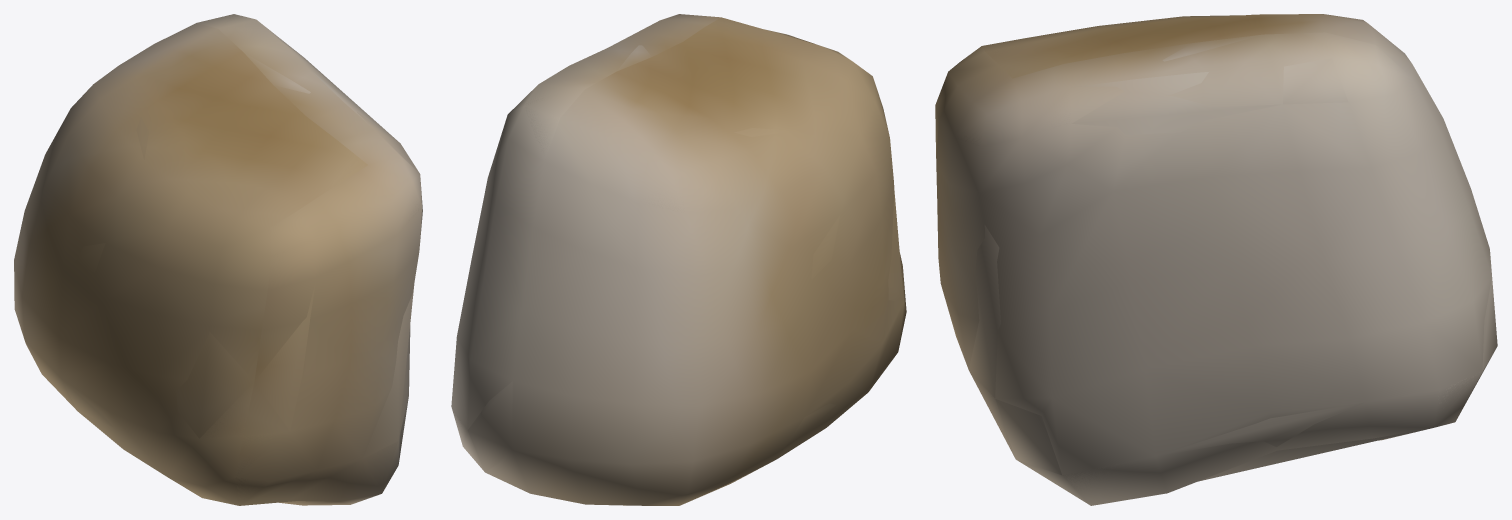
File: R carpale primum.fbx
3 views of the same model, side by side, from view 1: azimuth 30°, elevation 25°; view 2: azimuth 150°, elevation 25°; view 3: azimuth 270°, elevation 25° (orthographic). The views are drawn at different scales.
Visible parts, largest first — view 1: R carpale primum, R carpale primum low; view 2: R carpale primum, R carpale primum low; view 3: R carpale primum, R carpale primum low.
Part boxes in pixels (x1,y1,x2,y2): R carpale primum: [14, 14, 422, 505]; R carpale primum low: [61, 16, 419, 505]; R carpale primum: [451, 14, 906, 505]; R carpale primum low: [453, 18, 903, 472]; R carpale primum: [935, 14, 1491, 505]; R carpale primum low: [937, 15, 1497, 505].
Bounding box in the file's own units: 0.7308 × 0.9953 × 1.14.
